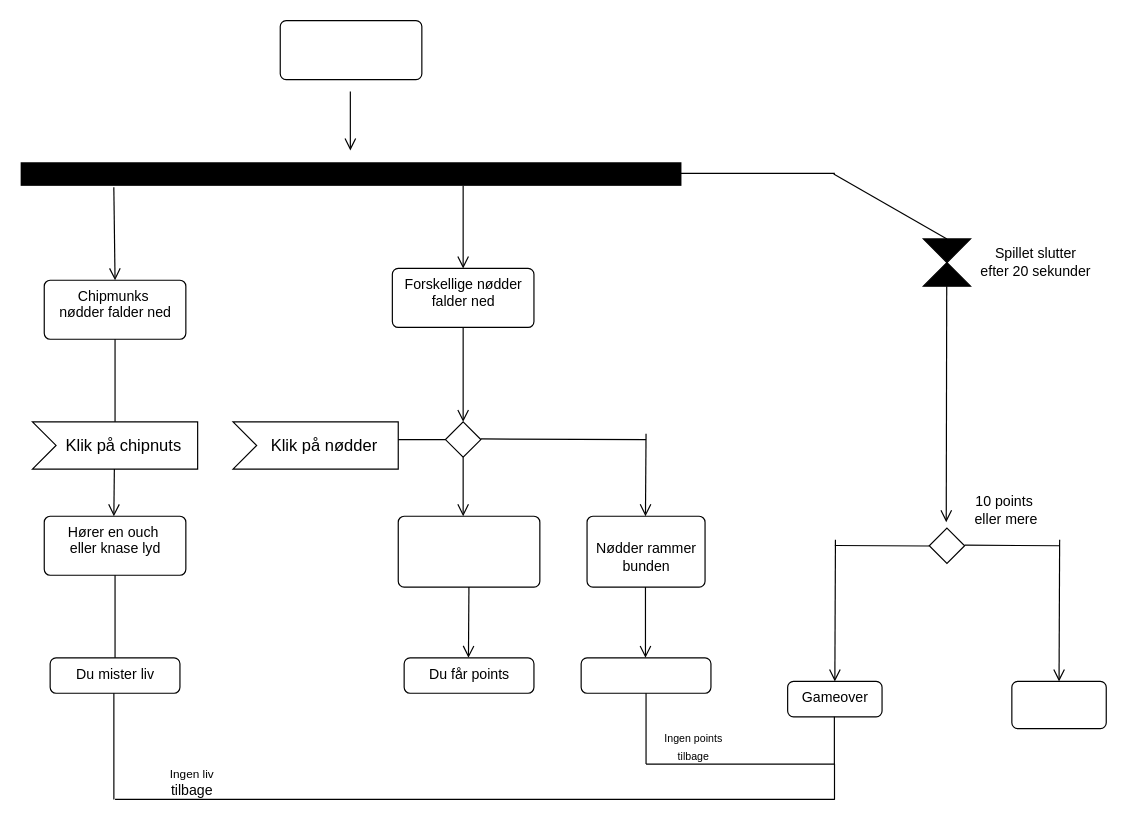
This 1127x821 diagram has some shape labels left out. Each missing label, with the centre of its shape:
"Du mister points" belongs at pixel 645 675.
"Level Complete" belongs at pixel 1058 704.
"Samler nødder hører man en jubel lyd eller lign" belongs at pixel 468 551.
"Startknap" belongs at pixel 350 49.
